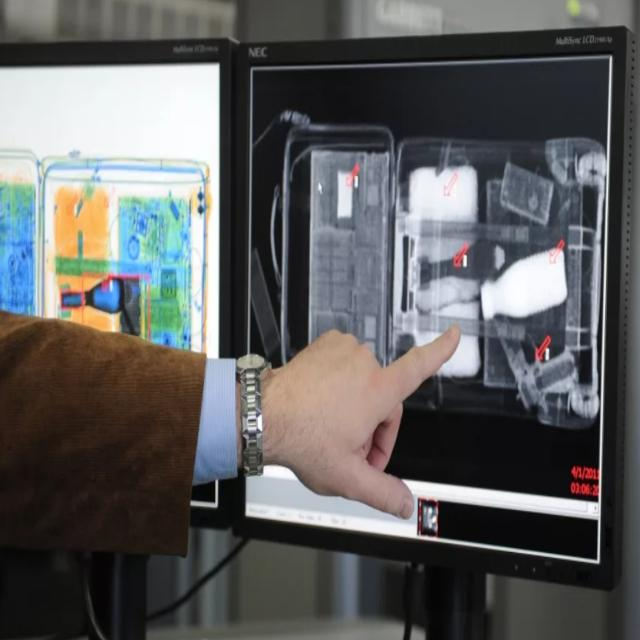pistol: (500, 322, 575, 418)
